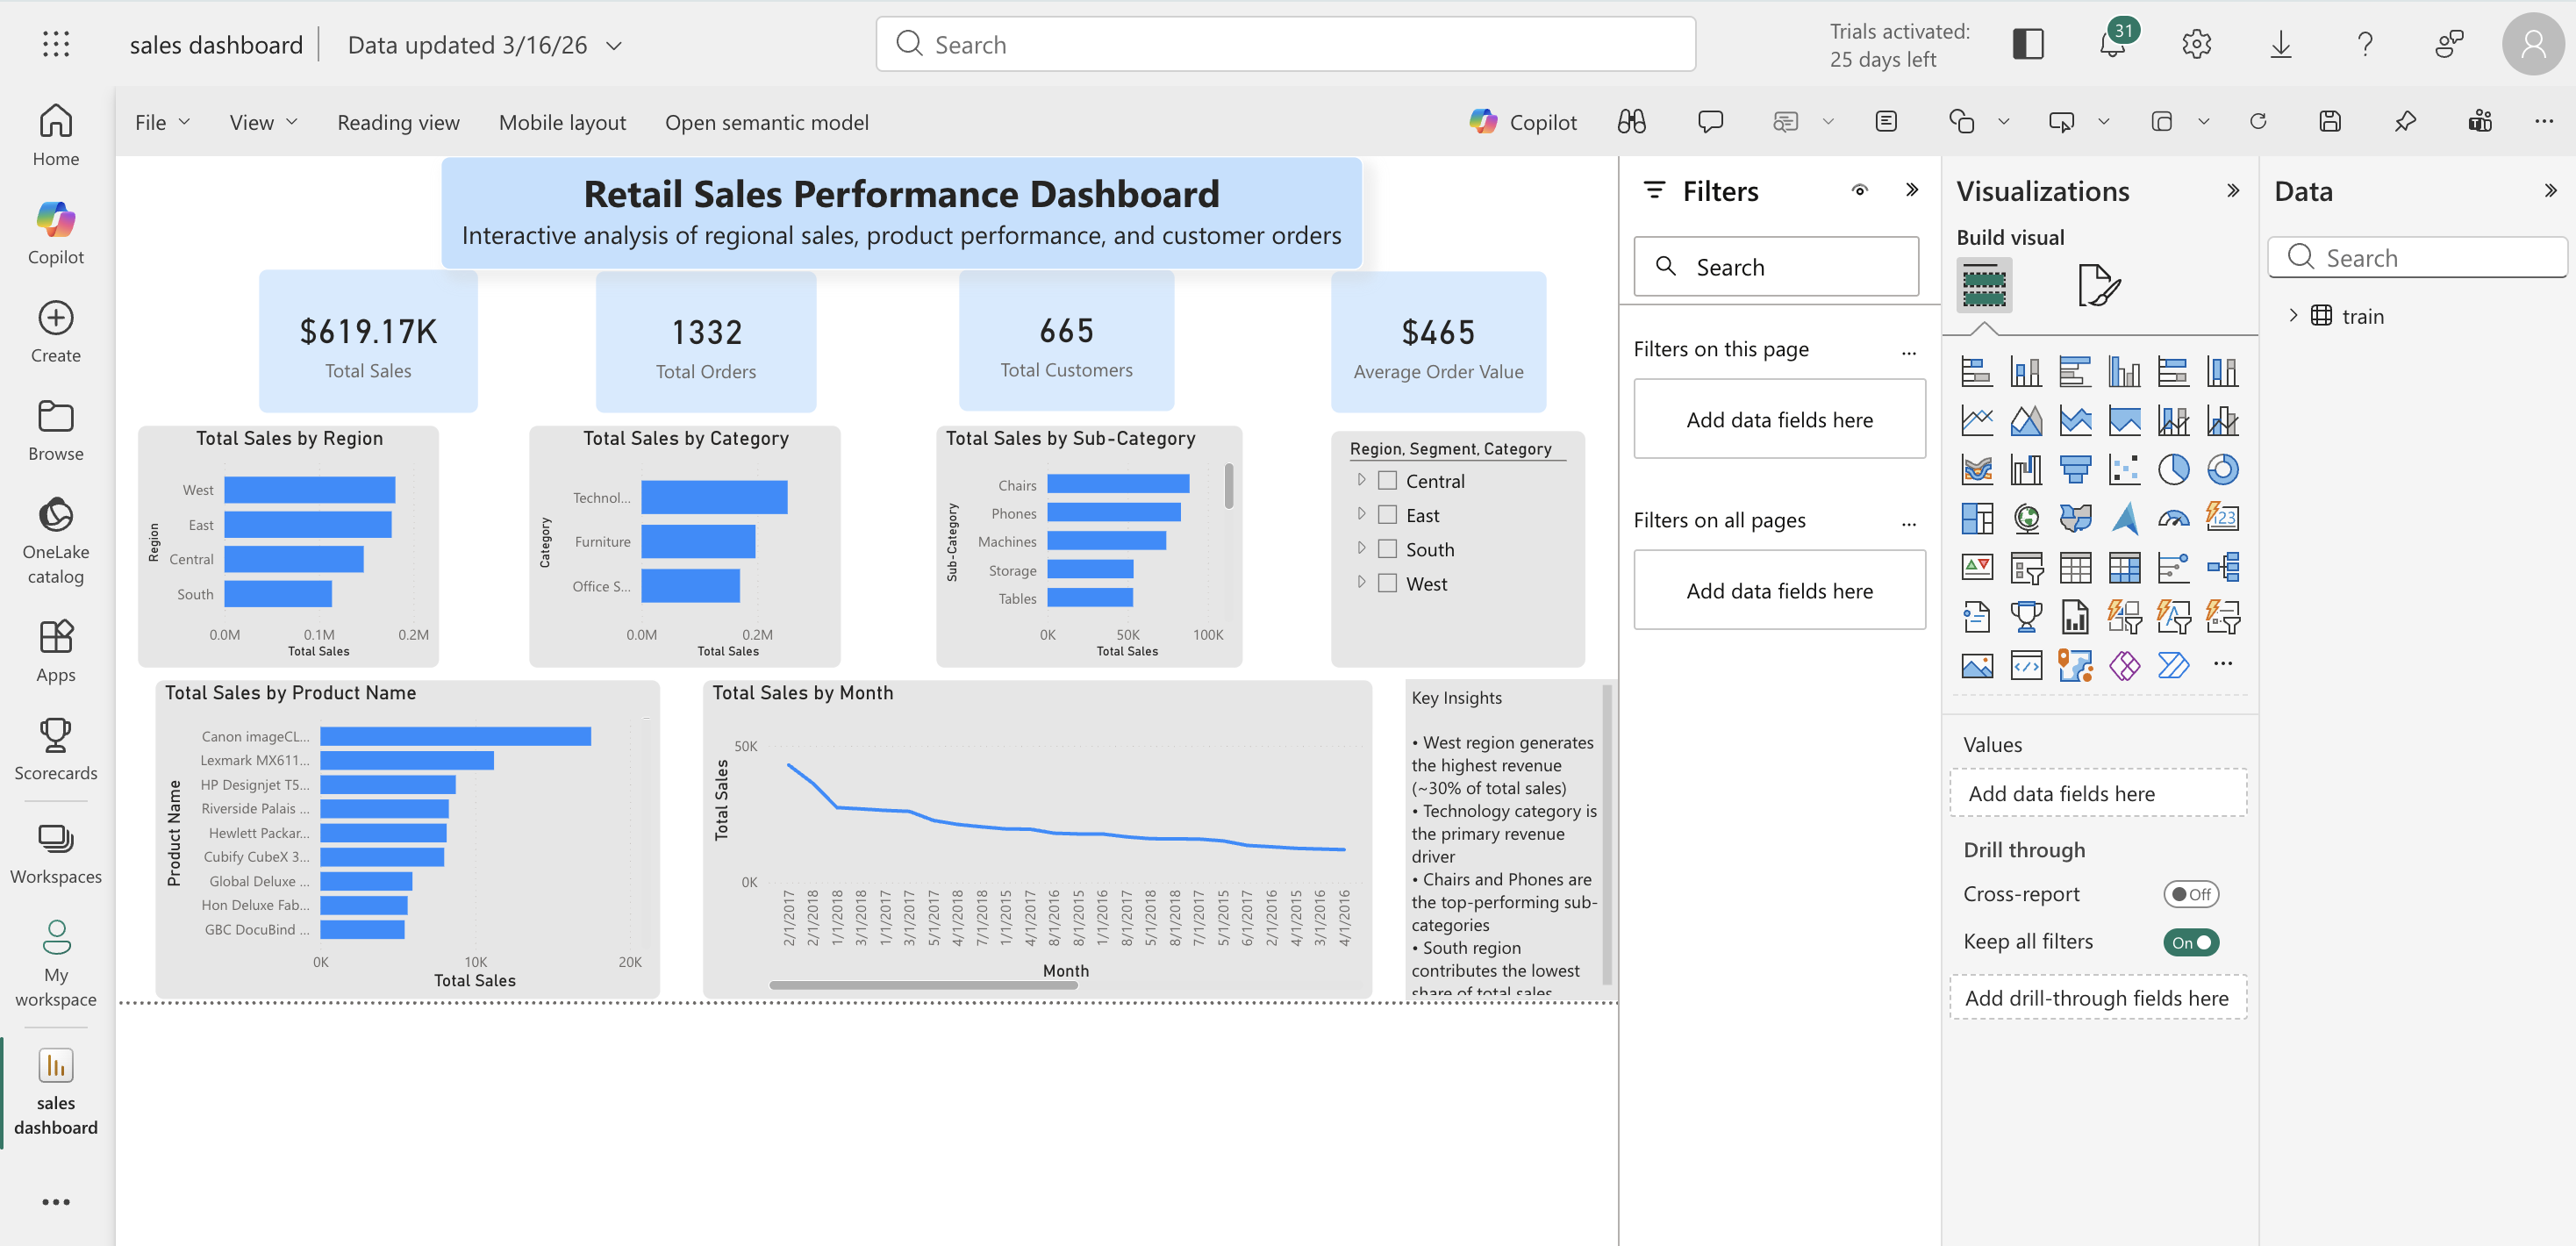

What the dashboard file says about the page in this screenshot:
{"tool":"powerbi","page":{"name":"Page 1","canvas":[1280,720],"ordinal":0},"visuals":[{"type":"card","fields":{"Values":["train.Total Sales"]},"box":[121.1,95.7,188.4,124.1],"z":0},{"type":"card","fields":{"Values":["train.Average Order Value"]},"box":[1034.8,97.2,185.4,122.6],"z":1000},{"type":"card","fields":{"Values":["train.Total Customers"]},"box":[717.8,95.7,185.4,122.6],"z":2000},{"type":"card","fields":{"Values":["train.Total Orders"]},"box":[408.2,97.2,189.9,122.6],"z":3000},{"type":"barChart","fields":{"Category":["train.Region"],"Y":["train.Total Sales"]},"box":[17.9,228.8,258.7,207.9],"z":4000},{"type":"barChart","fields":{"Category":["train.Category"],"Y":["train.Total Sales"]},"box":[351.4,228.8,267.7,207.9],"z":5000},{"type":"barChart","fields":{"Category":["train.Sub-Category"],"Y":["train.Total Sales"]},"box":[698.3,228.8,263.2,207.9],"z":6000},{"type":"barChart","fields":{"Category":["train.Product Name"],"Y":["train.Total Sales"]},"box":[32.9,445.6,432.1,273.6],"z":7000},{"type":"slicer","fields":{"Values":["train.Region","train.Segment","train.Category"]},"box":[1034.8,233.3,218.3,203.4],"z":8000},{"type":"lineChart","fields":{"Category":["train.Month"],"Y":["train.Total Sales"]},"box":[499.4,445.6,572.7,273.6],"z":9000},{"type":"textbox","box":[1099.1,445.6,180.9,273.6],"z":10000},{"type":"textbox","box":[276.6,0,786.5,97.2],"z":11000}]}

Visuals, with their boxes on the page's 1280x720 design canvas (x1, y1, x2, y2). These are canvas units, not pixel positions in the 2576x1246 screenshot, which may show the page scaled, cropped or inside an application window:
card - train.Total Sales: (121, 96, 310, 220)
card - train.Average Order Value: (1035, 97, 1220, 220)
card - train.Total Customers: (718, 96, 903, 218)
card - train.Total Orders: (408, 97, 598, 220)
barChart - train.Region x train.Total Sales: (18, 229, 277, 437)
barChart - train.Category x train.Total Sales: (351, 229, 619, 437)
barChart - train.Sub-Category x train.Total Sales: (698, 229, 962, 437)
barChart - train.Product Name x train.Total Sales: (33, 446, 465, 719)
slicer - train.Region x train.Segment: (1035, 233, 1253, 437)
lineChart - train.Month x train.Total Sales: (499, 446, 1072, 719)
textbox: (1099, 446, 1280, 719)
textbox: (277, 0, 1063, 97)
